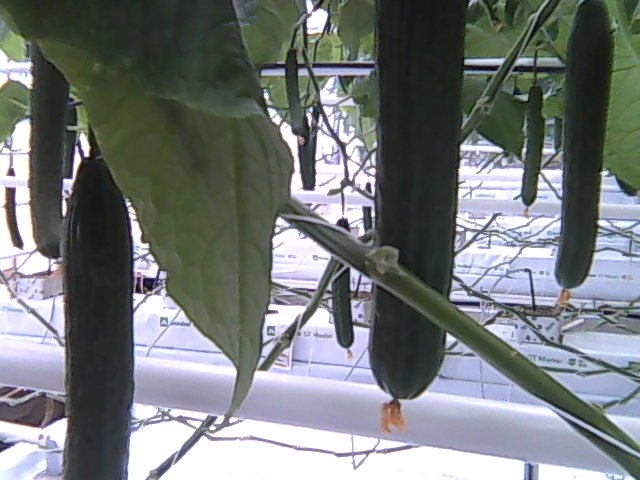concombre: (365, 1, 471, 433), (57, 154, 139, 480), (553, 1, 616, 306), (28, 39, 71, 259)
